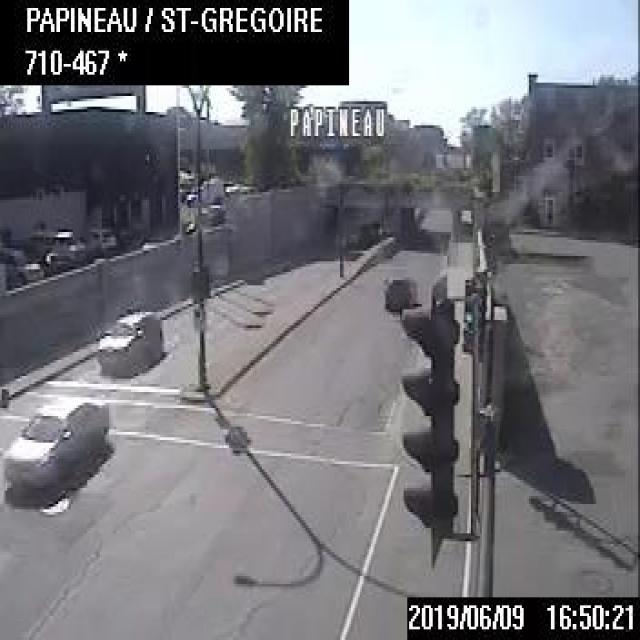vehicle: (0, 392, 109, 491), (96, 310, 162, 374), (0, 248, 44, 283), (380, 272, 413, 309), (45, 230, 83, 262), (87, 224, 122, 258)
